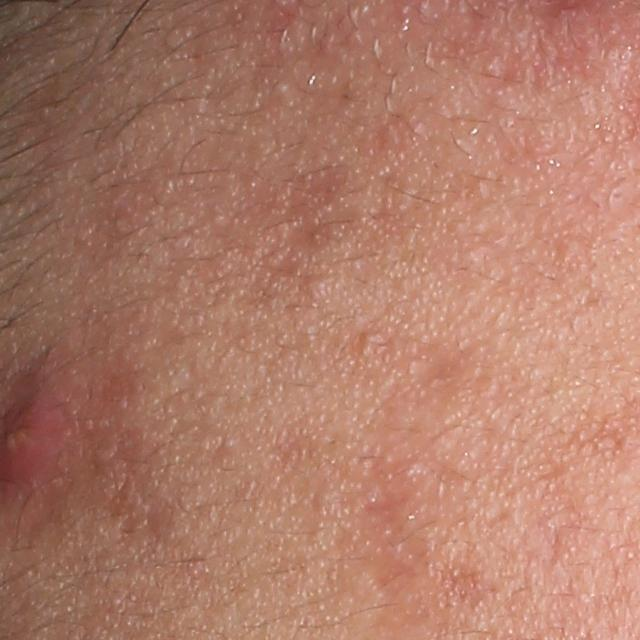comedo: (303, 270, 334, 299), (358, 328, 385, 353)
